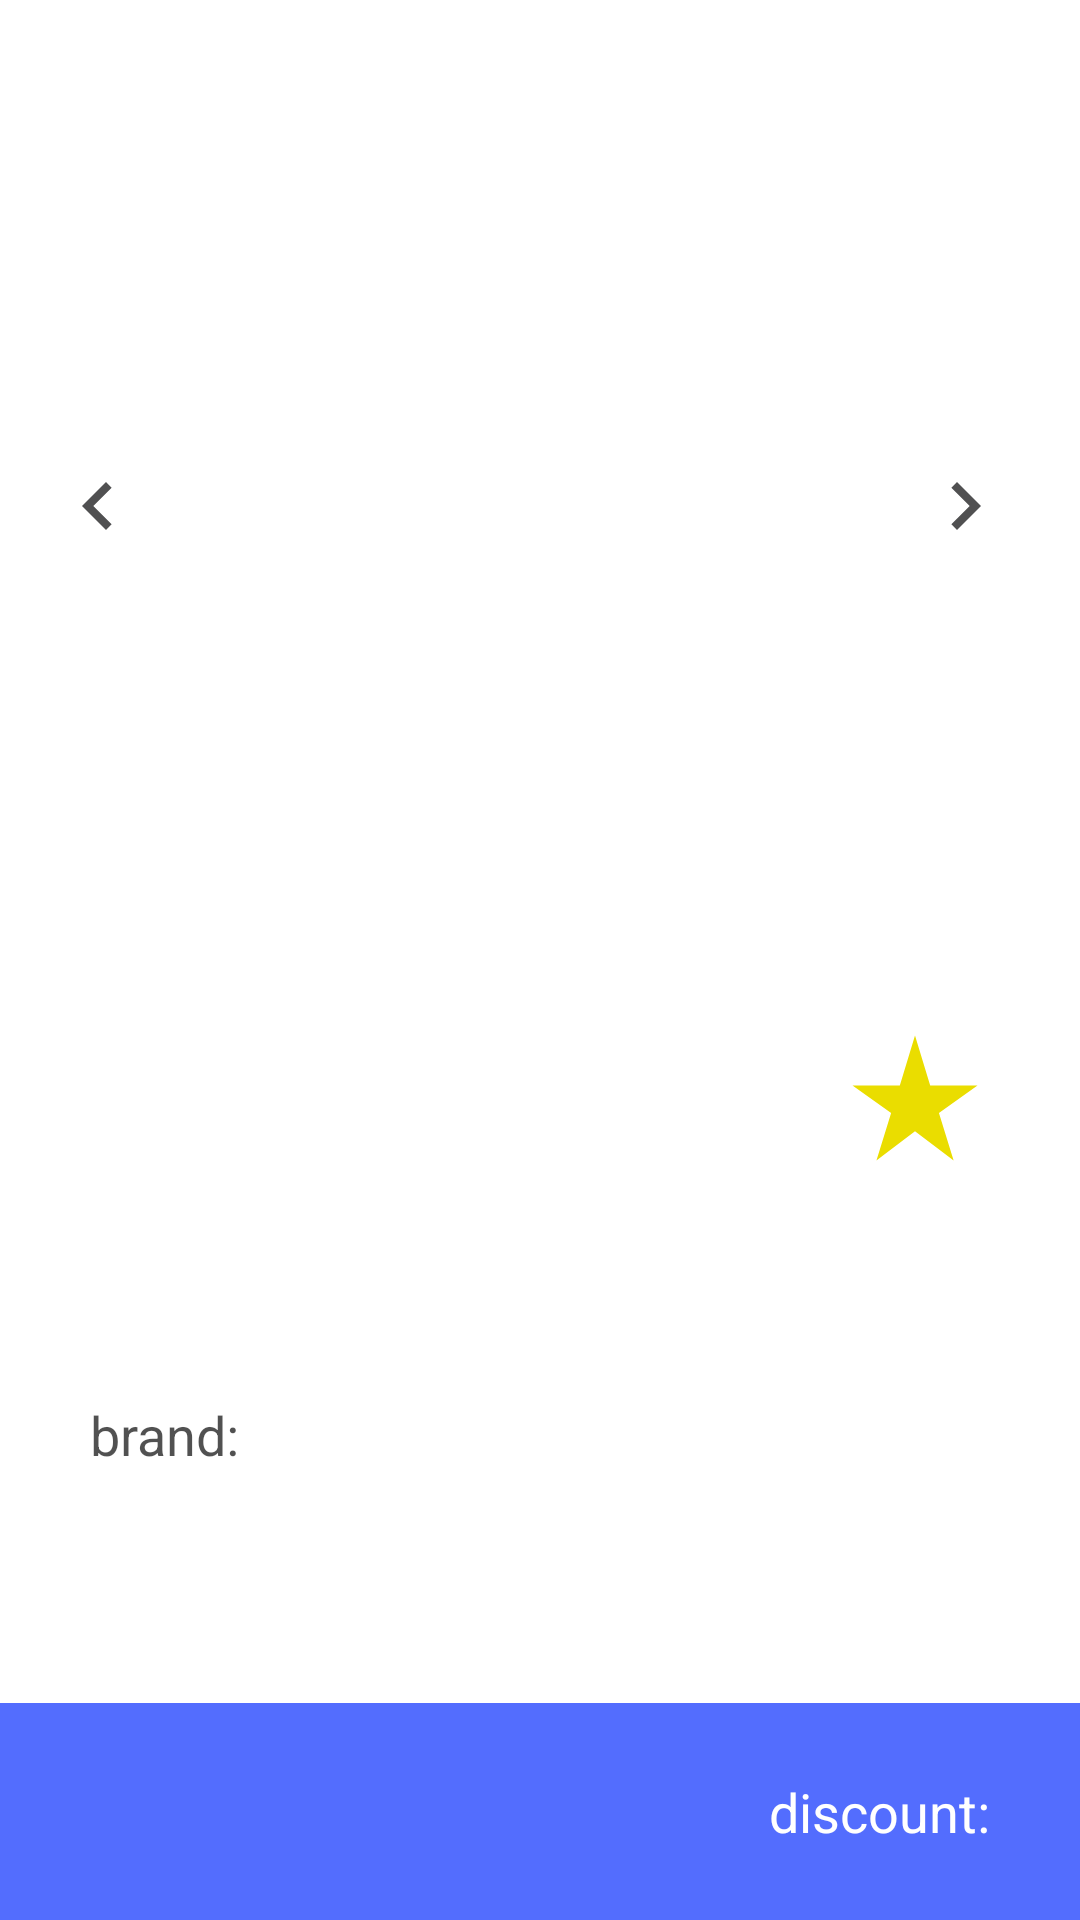

Where icons sit on this 1080w x 1920h app screen, as (x1, y1, x2, y2):
navigate before: (82, 482, 112, 530)
navigate next: (951, 482, 981, 530)
star rate: (853, 1036, 977, 1161)
